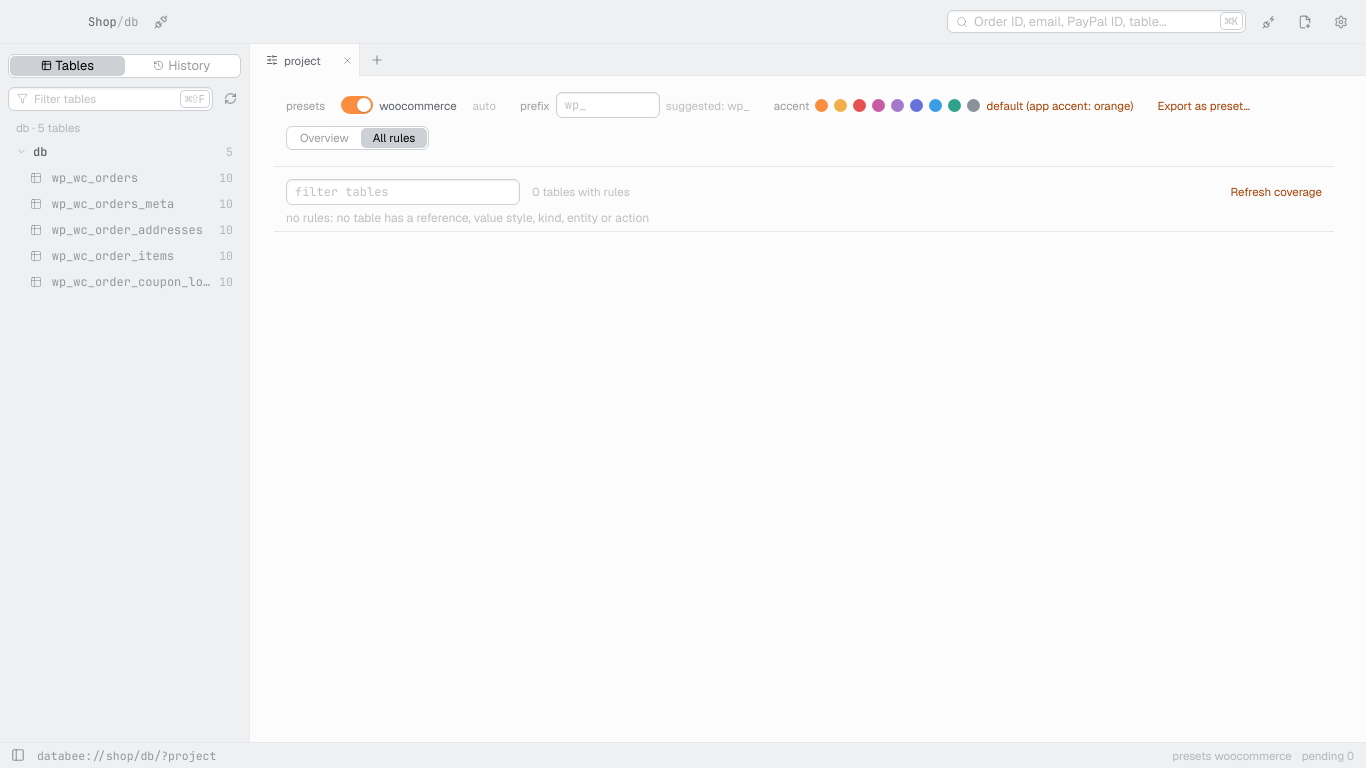
Scenario: ProjectPanel › export › asks for a path named after the connection and database, then exports there
The width and height of the screenshot is (1366, 768).
Expected: the element named "Databases" is shown, [16,144,233,290]
Expected: the element named "Presets and prefix" is shown, [274,76,1334,167]
Click the button "Export as preset…": (1204, 105) [1158,98,1250,112]
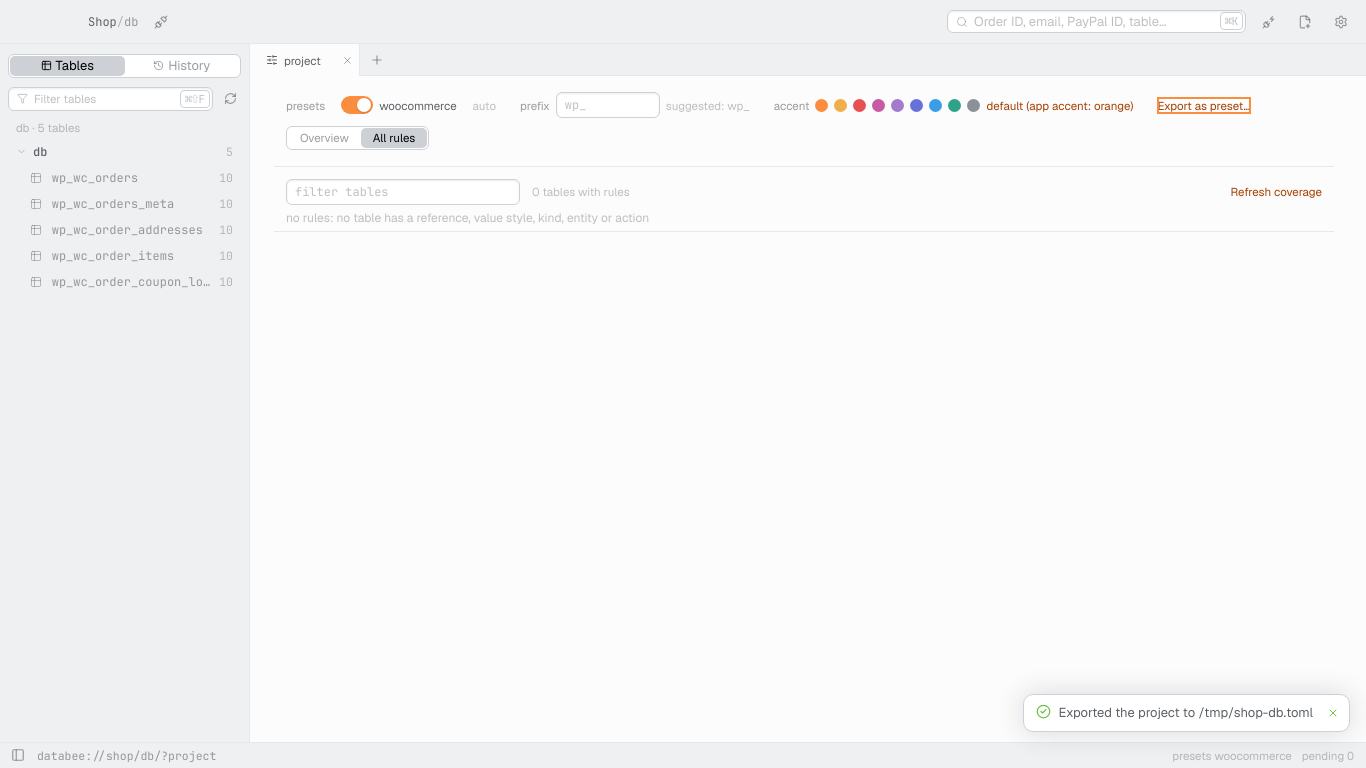
Result: the text "Exported the project to /tmp/shop-db.toml" is shown at [1058,704,1313,721]
